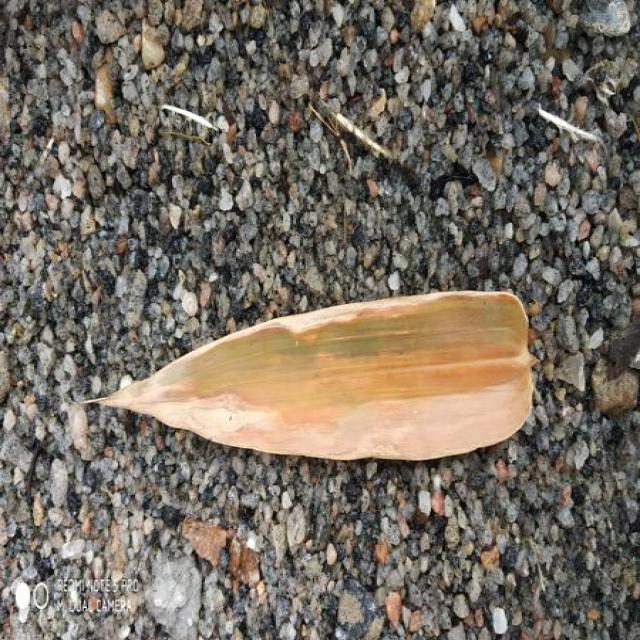Bamboo: (85, 291, 533, 460)
defectedBamboo: (85, 291, 533, 460)
